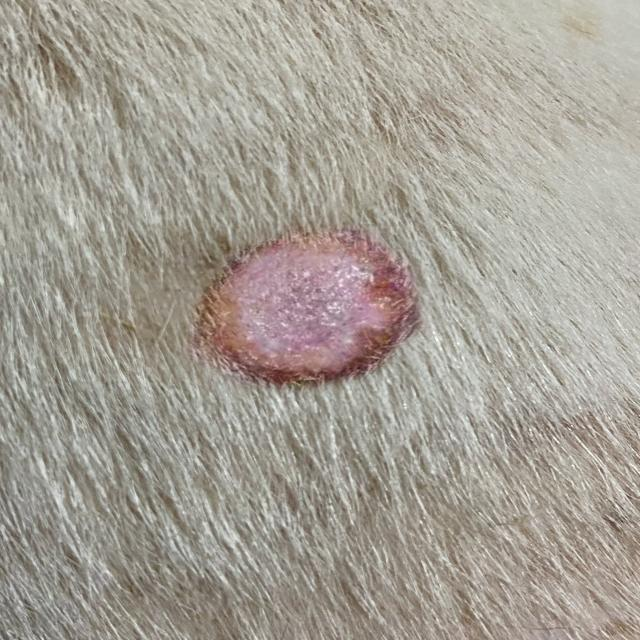ringworm: (168, 222, 438, 393)
